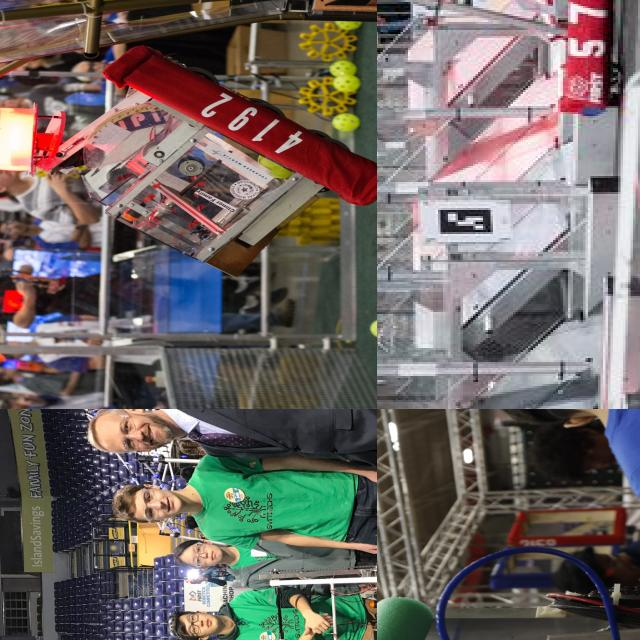FRC-Robots: (0, 41, 377, 270), (377, 0, 640, 326), (377, 516, 640, 640), (261, 515, 377, 640)
